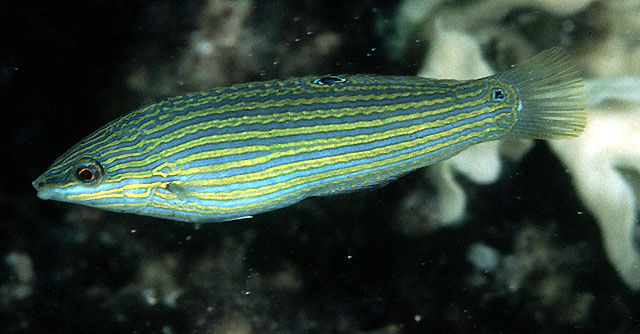fish: (31, 45, 588, 224)
